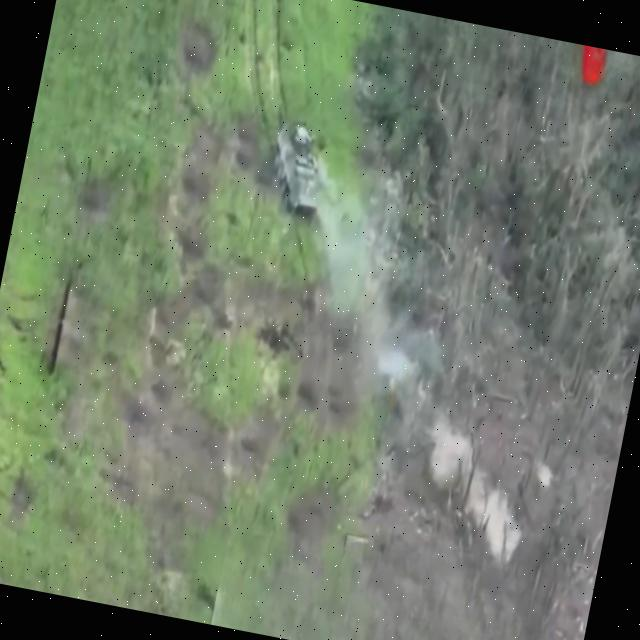APC: (261, 115, 340, 221)
